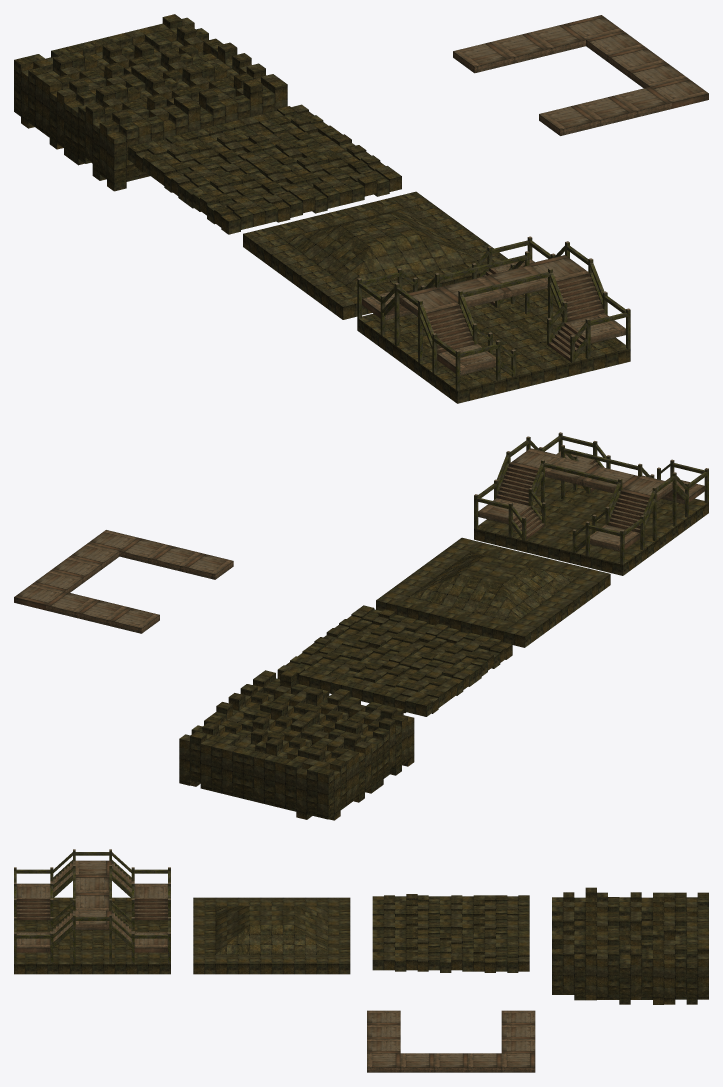
File: wooddungeon interior.gltf
3 renders of one model, top to bottom at view 1: azimuth 30°, elevation 25°; view 2: azimuth 150°, elevation 25°; view 3: azimuth 270°, elevation 25°, orthographic. The views are drawn at different scales.
Parts seen in each view (by area): view 1: wooddungeon interior; view 2: wooddungeon interior; view 3: wooddungeon interior.
Part boxes in pixels (bbox=[...]): wooddungeon interior: bbox=[14, 14, 708, 403]; wooddungeon interior: bbox=[14, 432, 708, 820]; wooddungeon interior: bbox=[14, 849, 708, 1072].
Size of the model in its own units: 77 by 18.5 by 124.
Materials: 3 (3 with a texture image).
